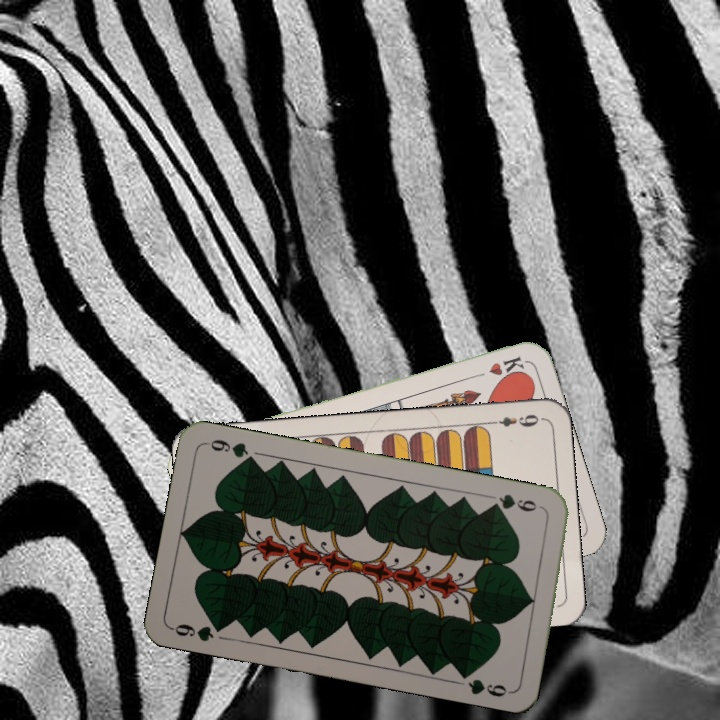E9: (485, 410, 545, 430)
G9: (168, 619, 229, 644), (487, 490, 547, 515)
HK: (468, 352, 526, 381)
